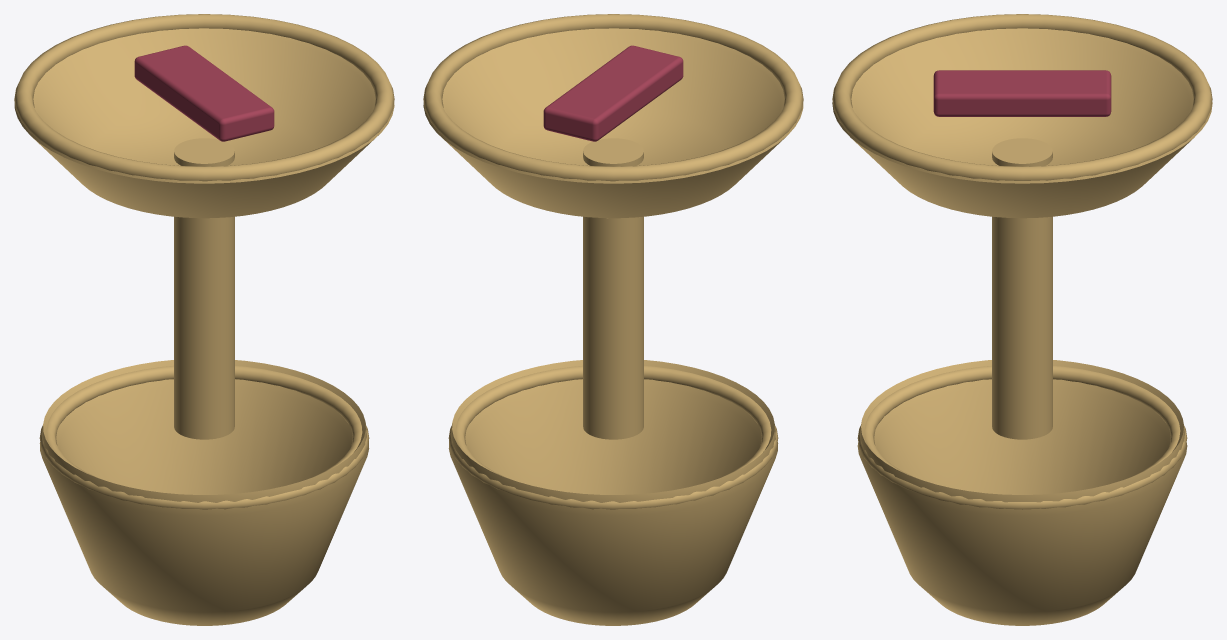
The model's file is griffin-airmail-roost-and-posthouse-sealing-wax-heater-43c38ba8__30520.glb.
3 views of the same model, side by side, from view 1: azimuth 30°, elevation 25°; view 2: azimuth 150°, elevation 25°; view 3: azimuth 270°, elevation 25° (orthographic).
Visible parts, largest first — view 1: sealing-wax-heater; view 2: sealing-wax-heater; view 3: sealing-wax-heater.
Boxes of the visible parts, x1=… form: sealing-wax-heater: x1=14, y1=14, x2=394, y2=625; sealing-wax-heater: x1=423, y1=14, x2=803, y2=625; sealing-wax-heater: x1=832, y1=14, x2=1212, y2=625.
Size of the model in its own units: 0.15 by 0.22 by 0.15.
